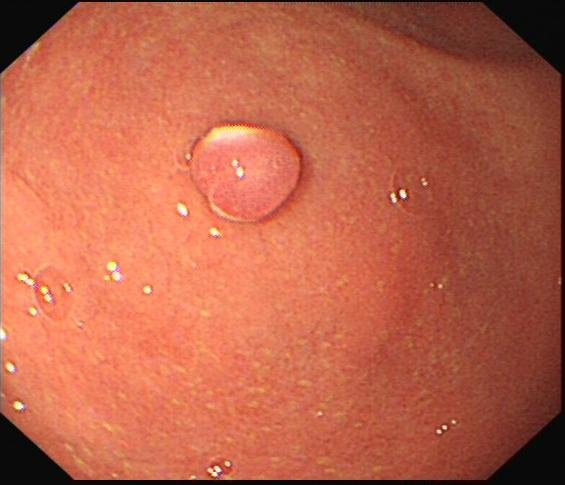Polyp: (183, 123, 302, 220)
